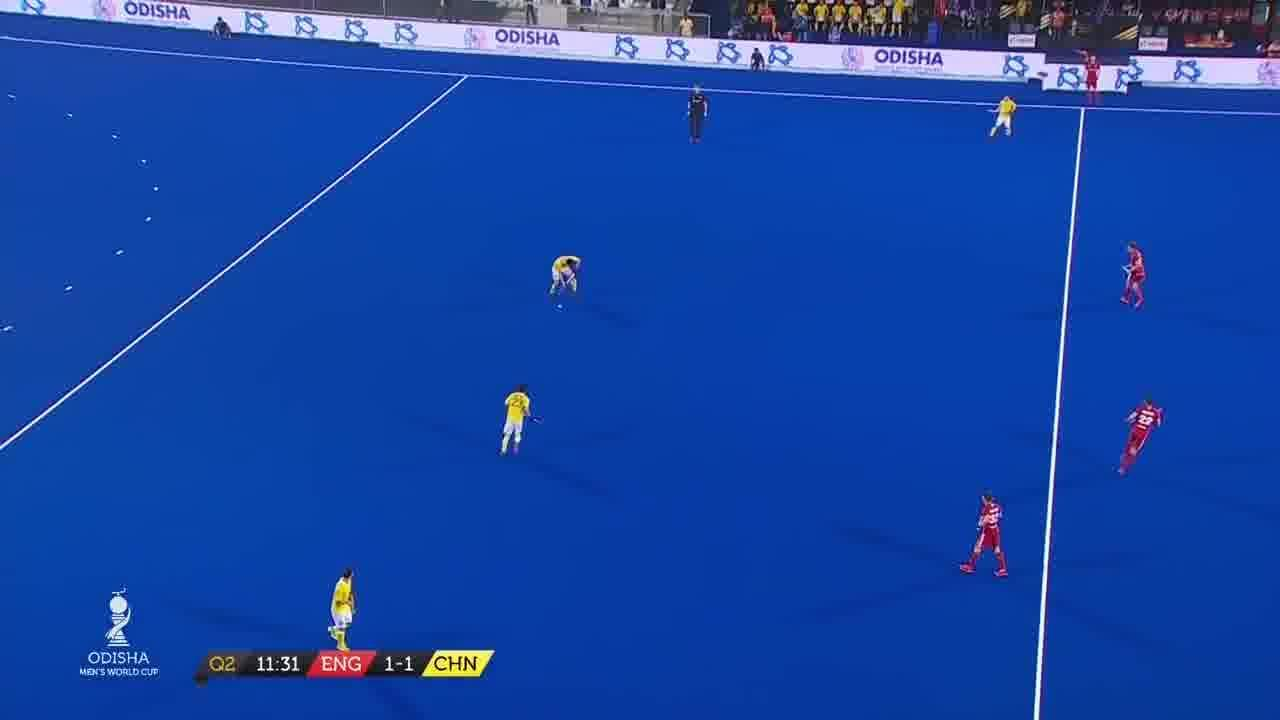ball: (554, 298, 568, 316)
